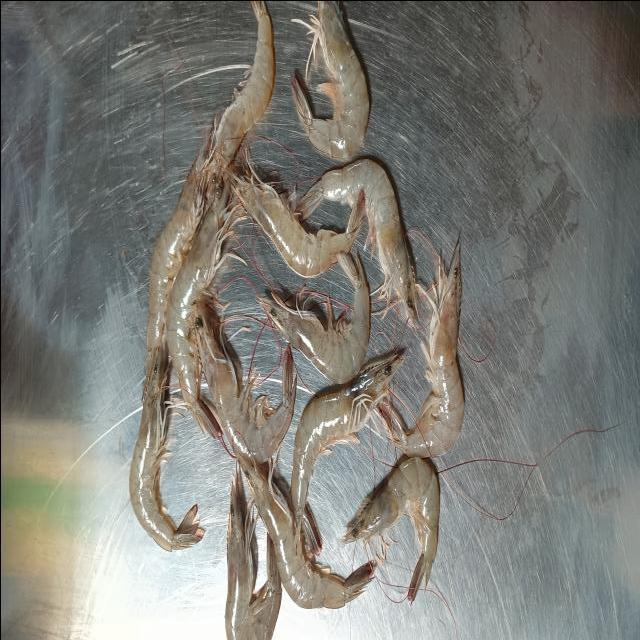shrimp: (236, 454, 374, 607), (295, 157, 416, 323), (165, 184, 241, 439), (290, 352, 402, 525), (378, 239, 464, 456), (226, 149, 365, 277), (194, 297, 296, 463), (201, 0, 275, 216), (129, 341, 204, 551), (144, 158, 212, 379), (258, 253, 370, 383), (341, 456, 439, 602), (290, 0, 369, 160), (224, 463, 281, 640)
